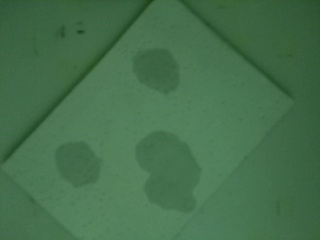Water_detected: (151, 138, 192, 199), (145, 48, 170, 83), (74, 150, 94, 173)
